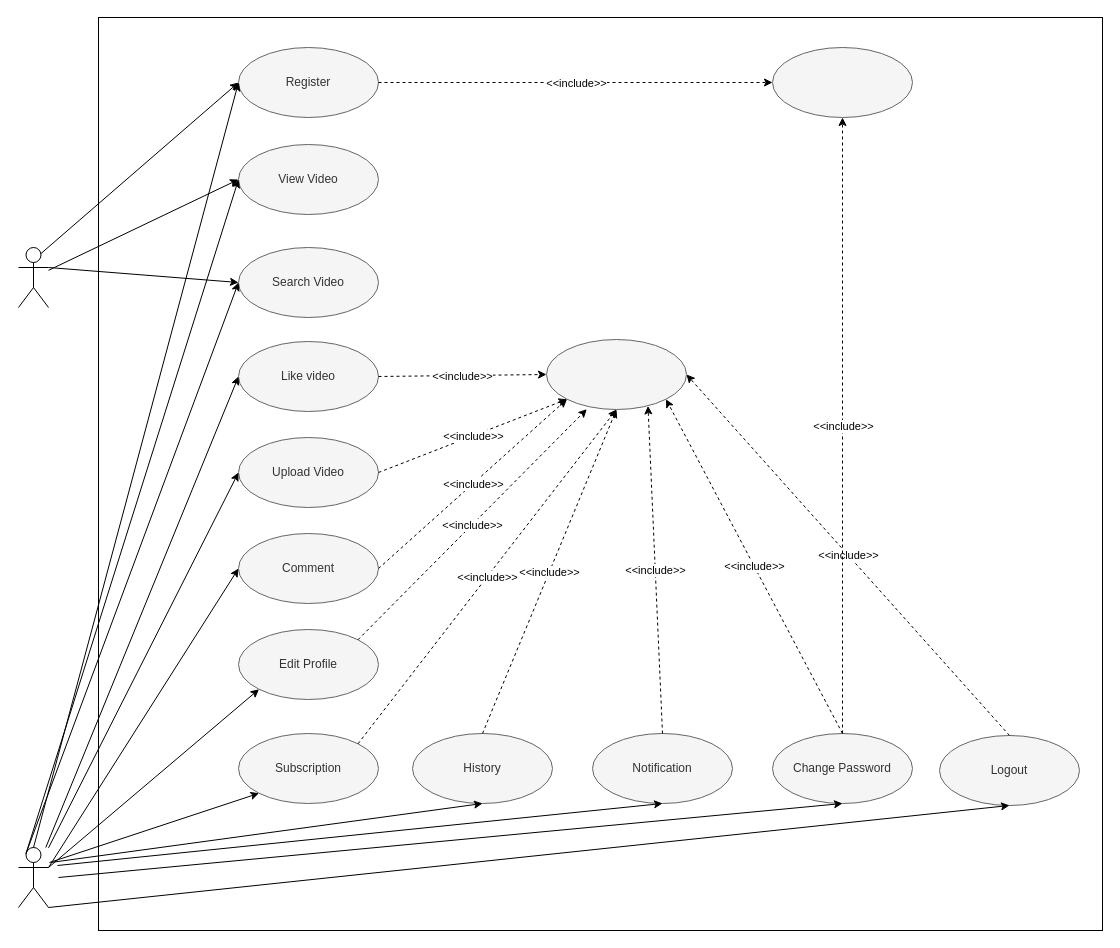
Image size: 1120x948. Some labels were removed from this diagram. Here are the shapes that lost their labels. From the top down, the centre of each, then its label:
At (842,82): "Email".
At (33,277): "Guest".
At (616,374): "Login".
At (33,877): "Client".
